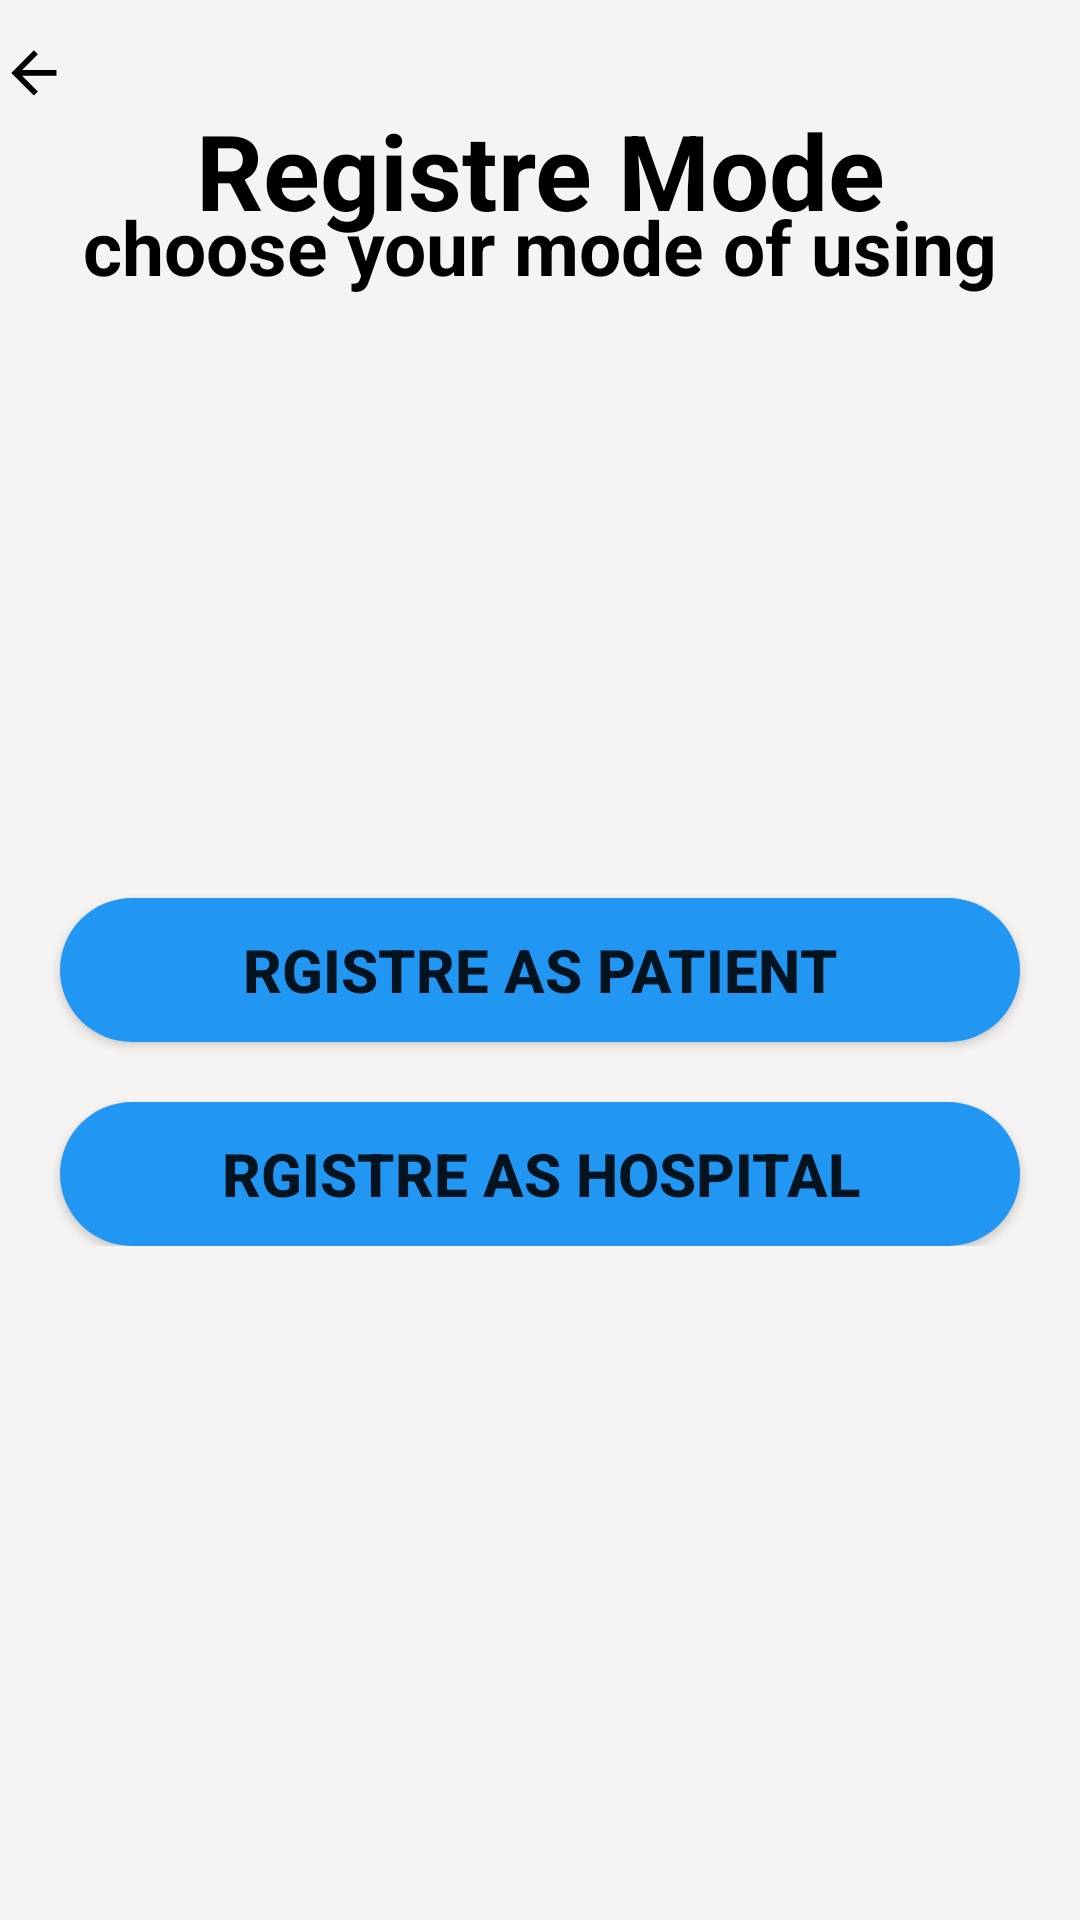

Where icons sit on this 1080 × 1920 app screen, as (x1, y1, x2, y2):
back: (11, 50, 57, 96)
